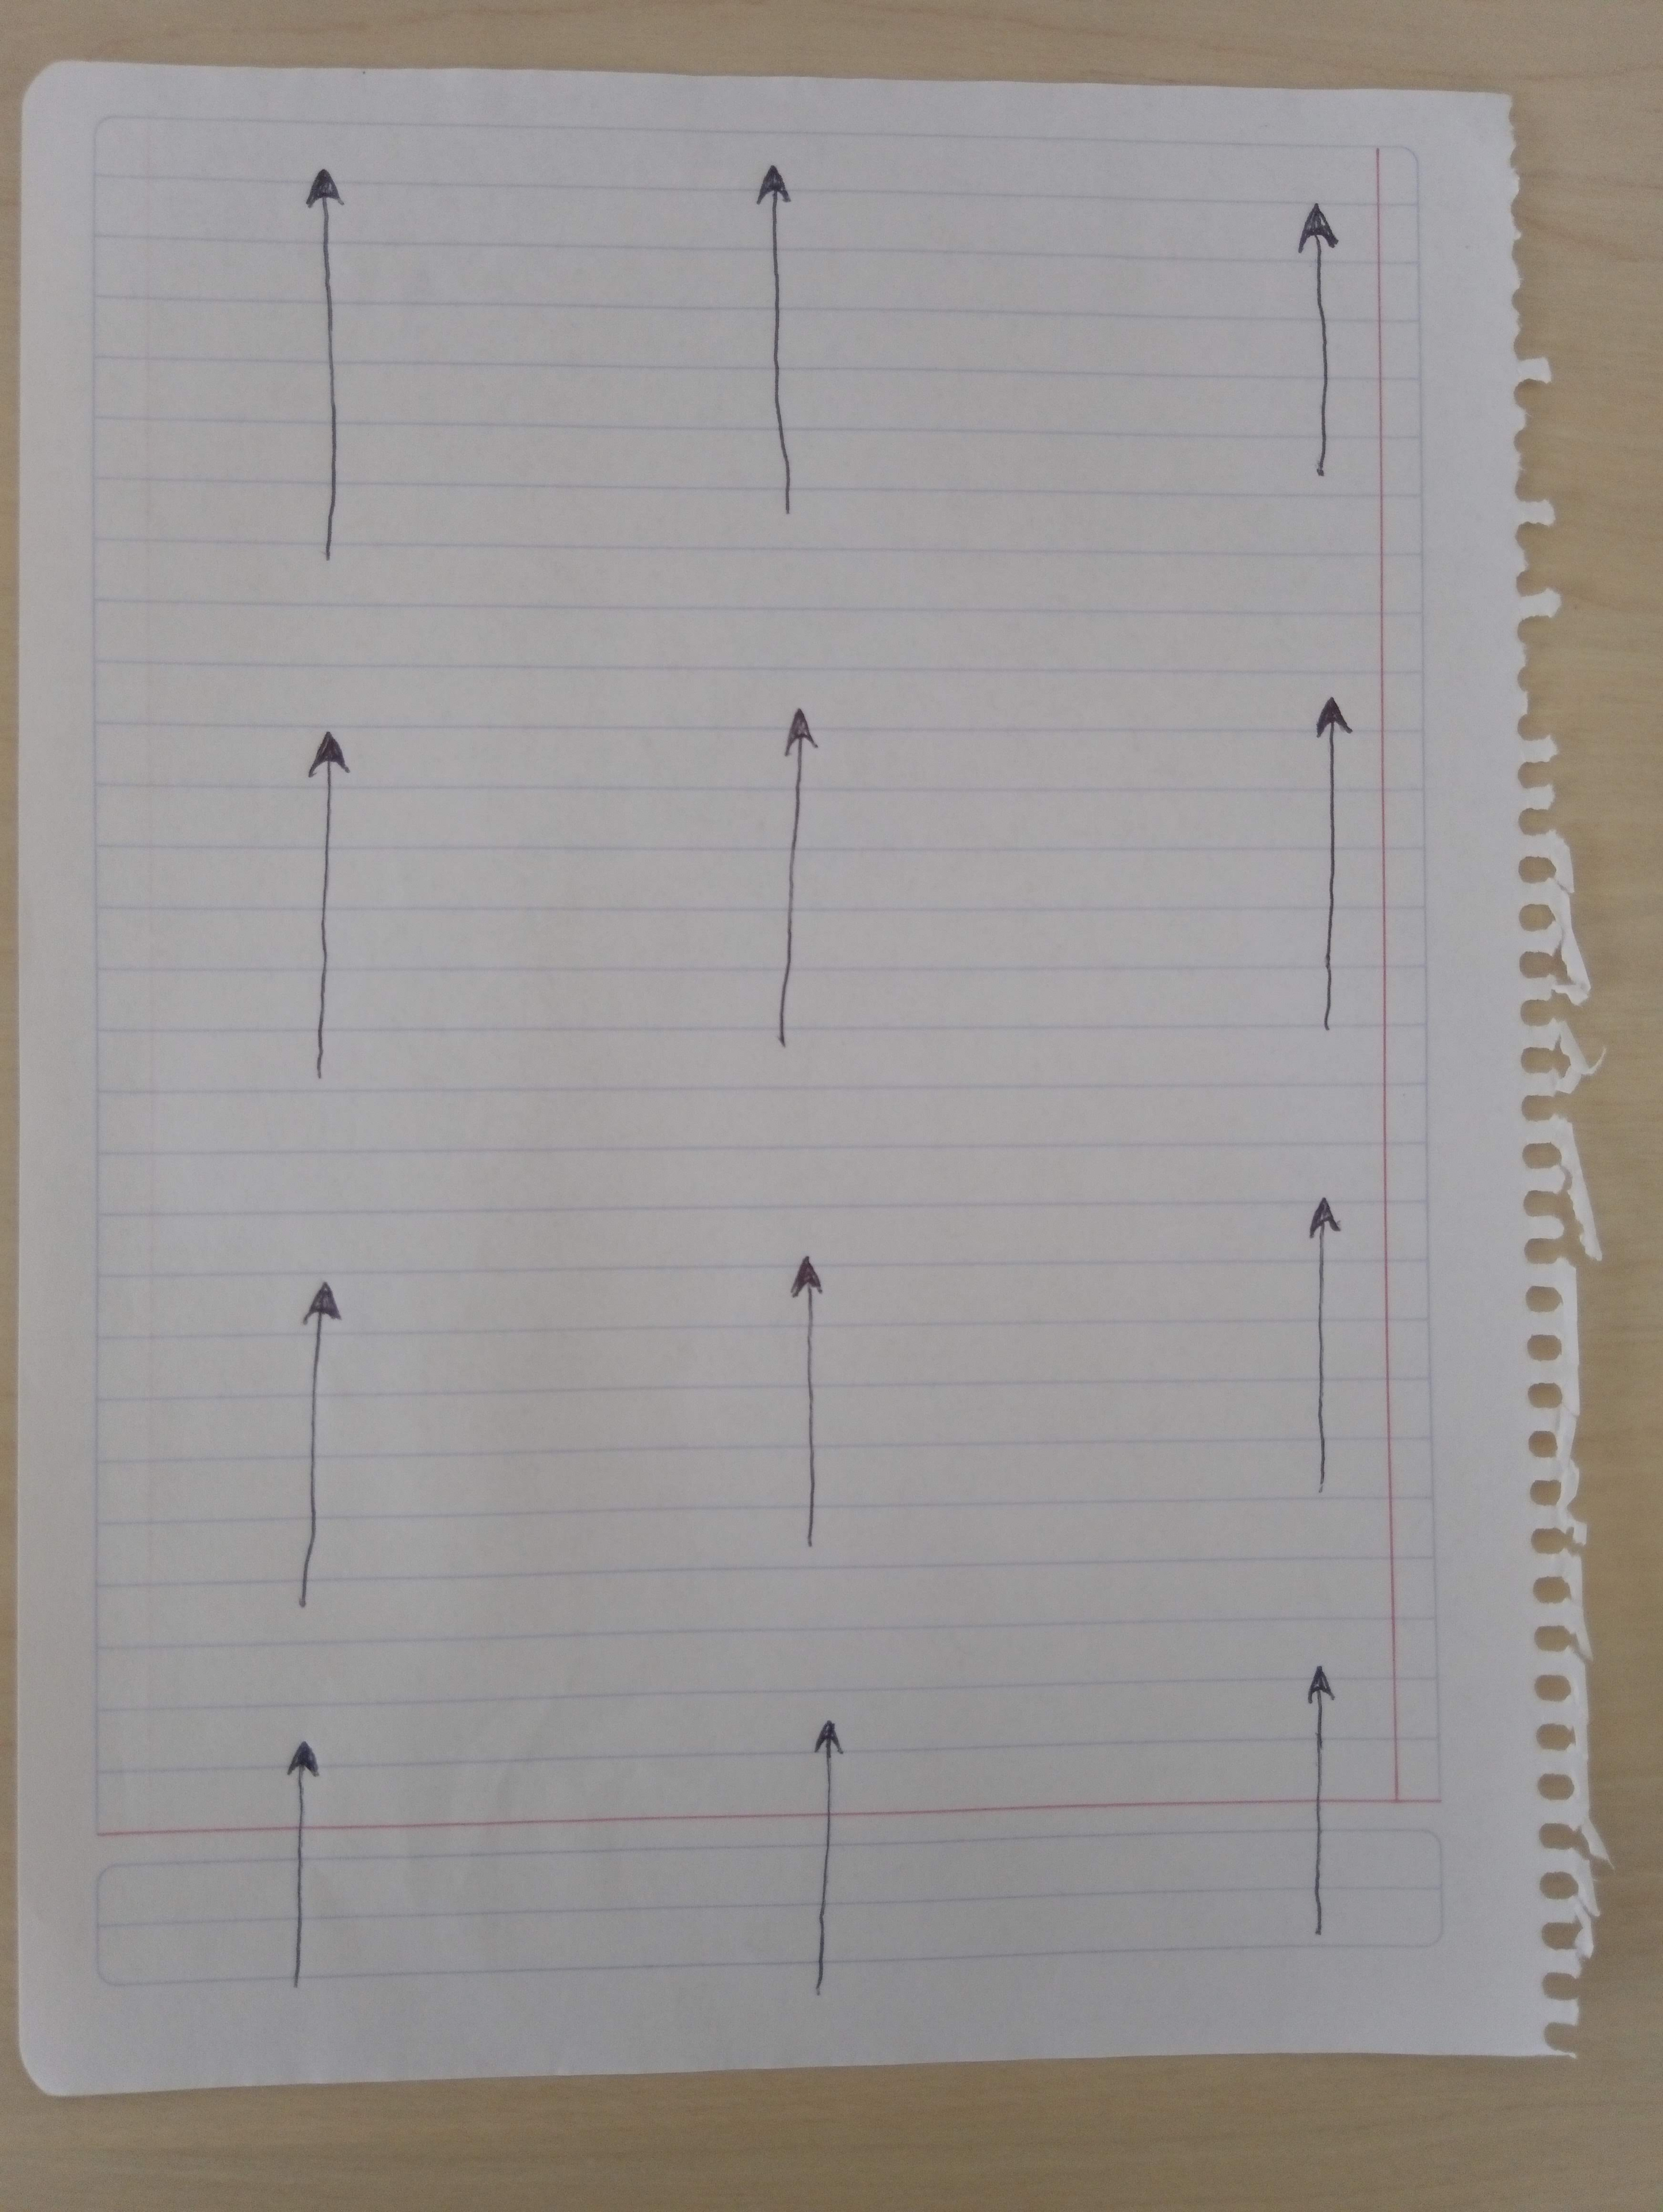arrow_line_up: (267, 147, 372, 559), (273, 1262, 369, 1627), (737, 162, 823, 543), (1259, 194, 1354, 520), (753, 709, 833, 1051), (1284, 679, 1361, 1023), (786, 1248, 858, 1589), (292, 737, 362, 1074), (1280, 1182, 1357, 1484), (1291, 1659, 1364, 1948), (257, 1735, 328, 2018), (798, 1709, 865, 2011)
